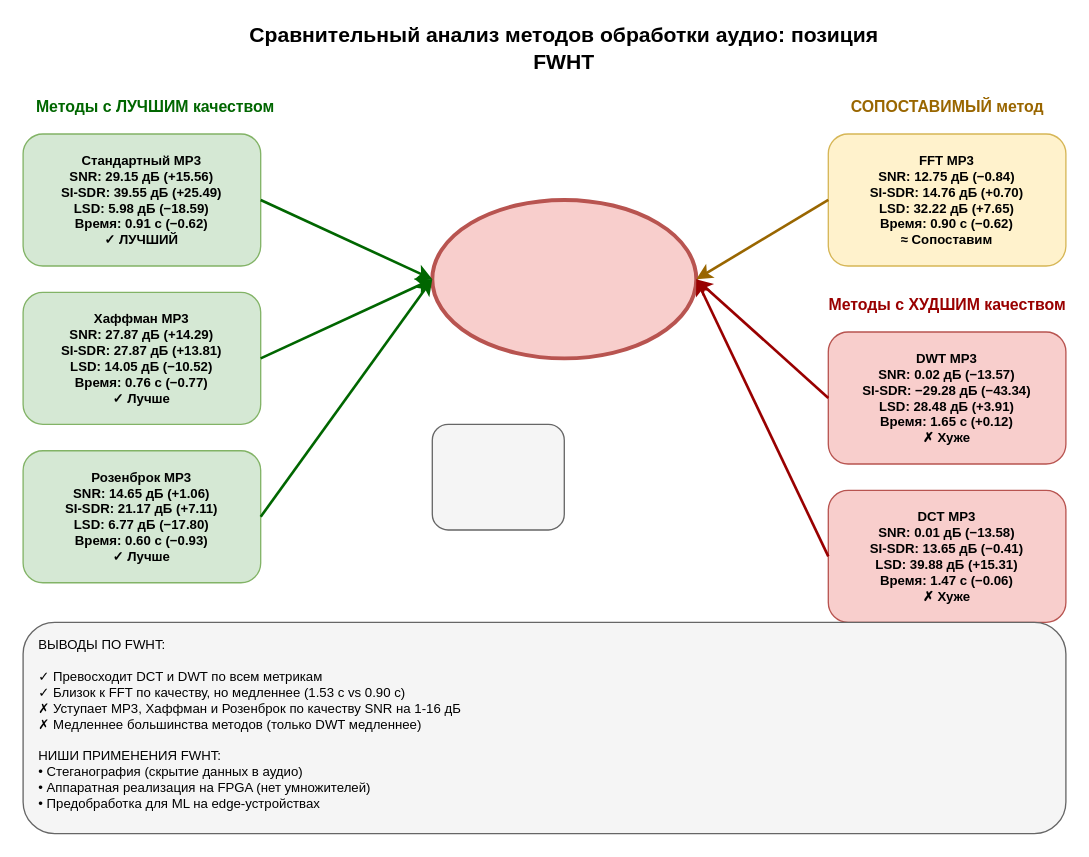
The diagram is 1089 pixels wide and 857 high, and some of its shapes have lost their labels. Each missing label, with the centre of its shape:
FWHT MP3 SNR: 13.59 дБ SI-SDR: 14.06 дБ LSD: 24.57 дБ Время: 1.53 с: point 564,278
Легенда: 🟢 Лучше FWHT 🟡 Сопоставим 🔴 Хуже FWHT: point 497,476
